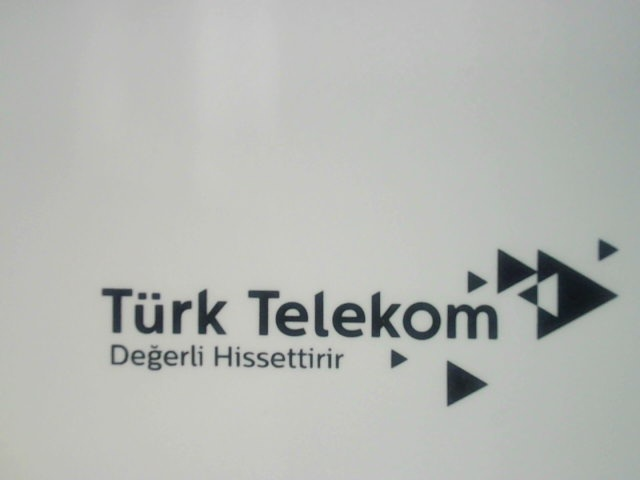AQ_TURKTelekom: (100, 234, 623, 410)
